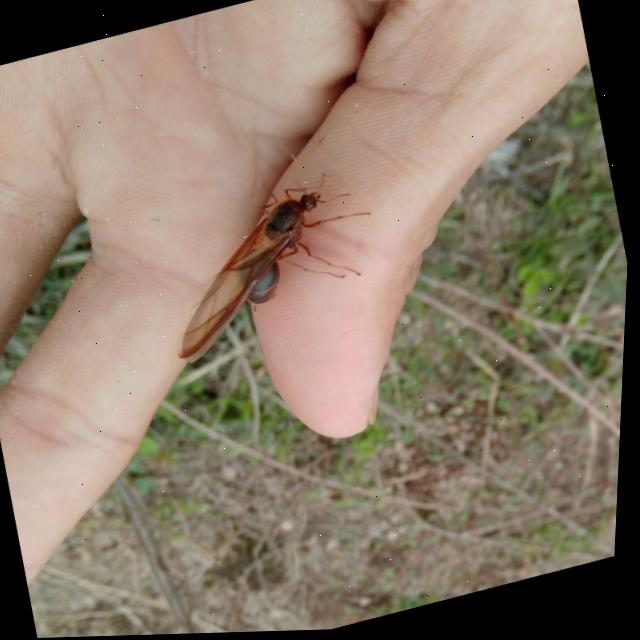Alive-Male-Alate: (141, 136, 399, 369)
